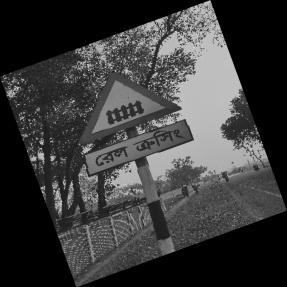Rail-crossing: (78, 72, 192, 178)
